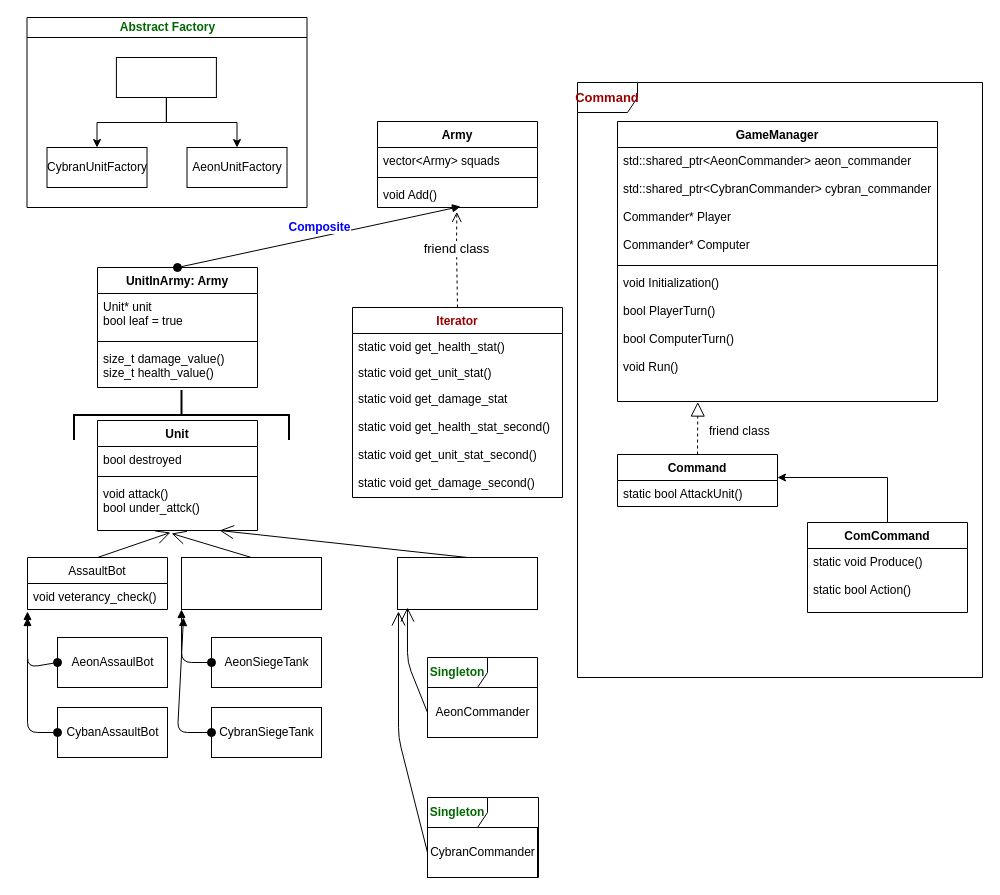
Image size: 1000x895. Some labels were removed from this diagram. The shapes that lost their labels are listed below. From the top down, each one's centre as x and y in pixels, then its label:
the point at 165,77: UnitFactory
the point at 181,414: Proxy
the point at 251,583: SiegeTank
the point at 467,583: Commander
